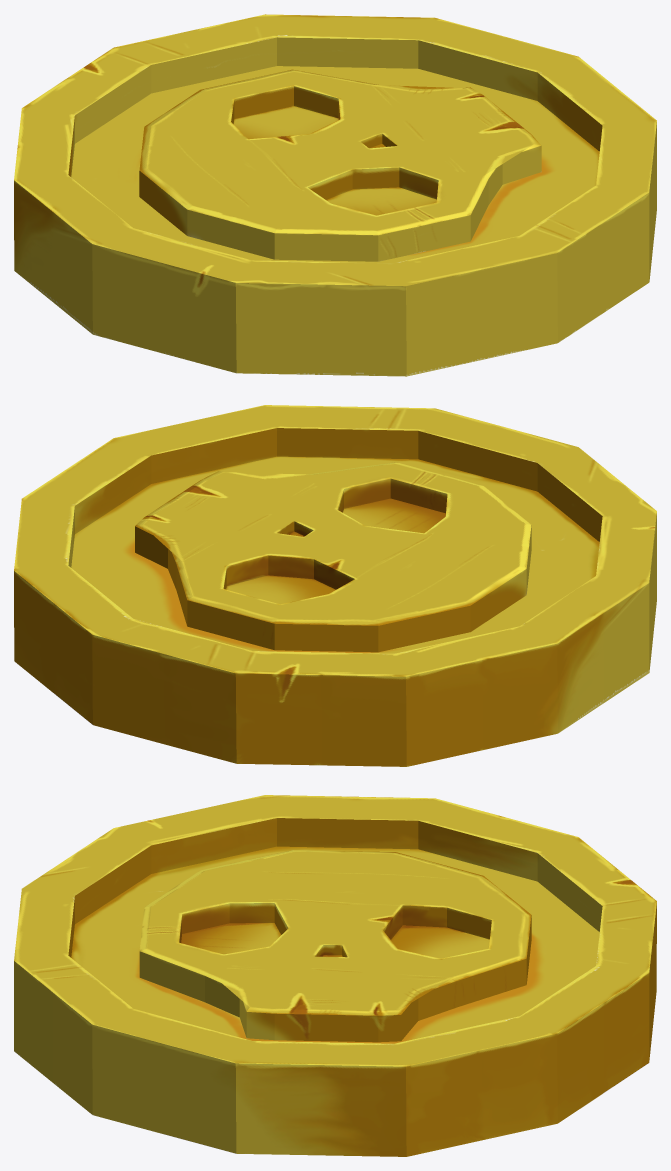
The model's file is skull-coin.glb.
3 views of the same model, one above another, from view 1: azimuth 30°, elevation 25°; view 2: azimuth 150°, elevation 25°; view 3: azimuth 270°, elevation 25° (orthographic).
Visible parts, largest first — view 1: Ouro de Sangue; view 2: Ouro de Sangue; view 3: Ouro de Sangue.
Boxes of the visible parts, left/top/right/bottom form: Ouro de Sangue: left=14, top=14, right=656, bottom=376; Ouro de Sangue: left=14, top=405, right=656, bottom=766; Ouro de Sangue: left=14, top=795, right=656, bottom=1156.
Size of the model in its own units: 1.95 by 0.3056 by 1.95.
1 material, 1 textured.
